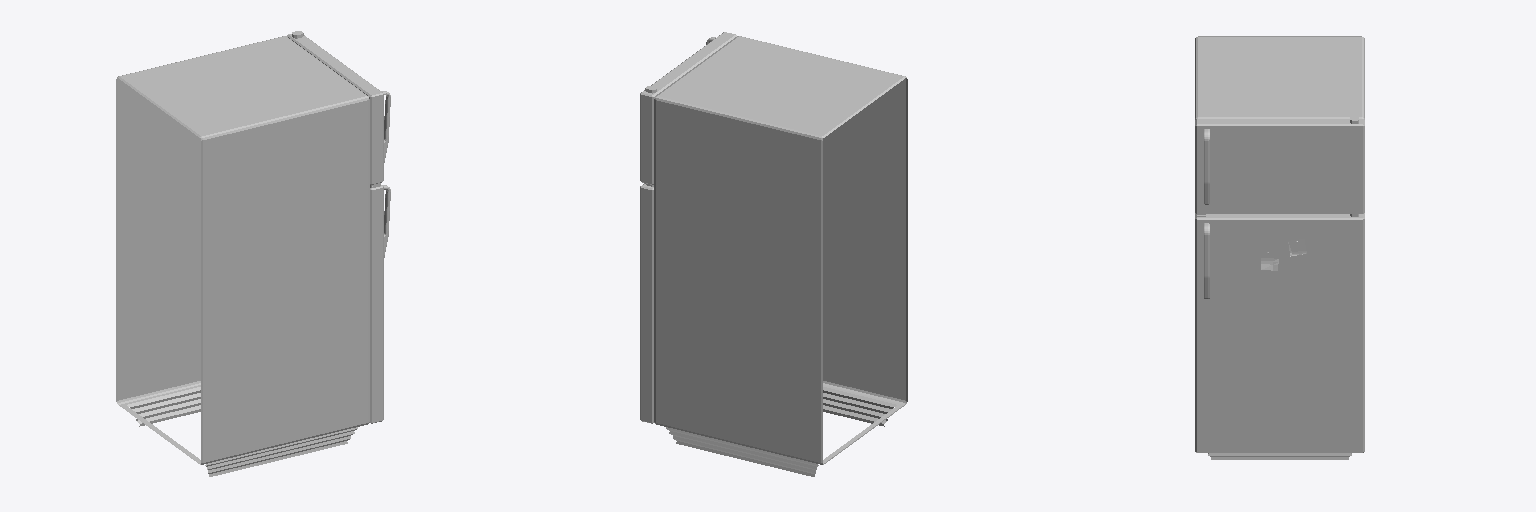
File: fridge.obj
3 views of the same model, side by side, from view 1: azimuth 30°, elevation 25°; view 2: azimuth 150°, elevation 25°; view 3: azimuth 270°, elevation 25° (orthographic).
Visible parts, largest first — view 1: fridge_Plane.002; view 2: fridge_Plane.002; view 3: fridge_Plane.002.
Boxes of the visible parts, box(x1,y1,x2,y2) form: fridge_Plane.002: box(116, 31, 390, 476); fridge_Plane.002: box(640, 32, 907, 476); fridge_Plane.002: box(1195, 36, 1364, 459).
Size of the model in its own units: 2.7 by 4.67 by 2.04.